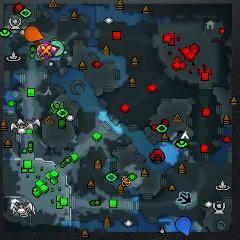Other: (38, 42, 53, 59)
p1: (176, 216, 192, 236)
p2: (50, 40, 65, 57)
p3: (52, 45, 60, 56)
p5: (25, 26, 44, 41)
x3Clone: (178, 191, 192, 205)
